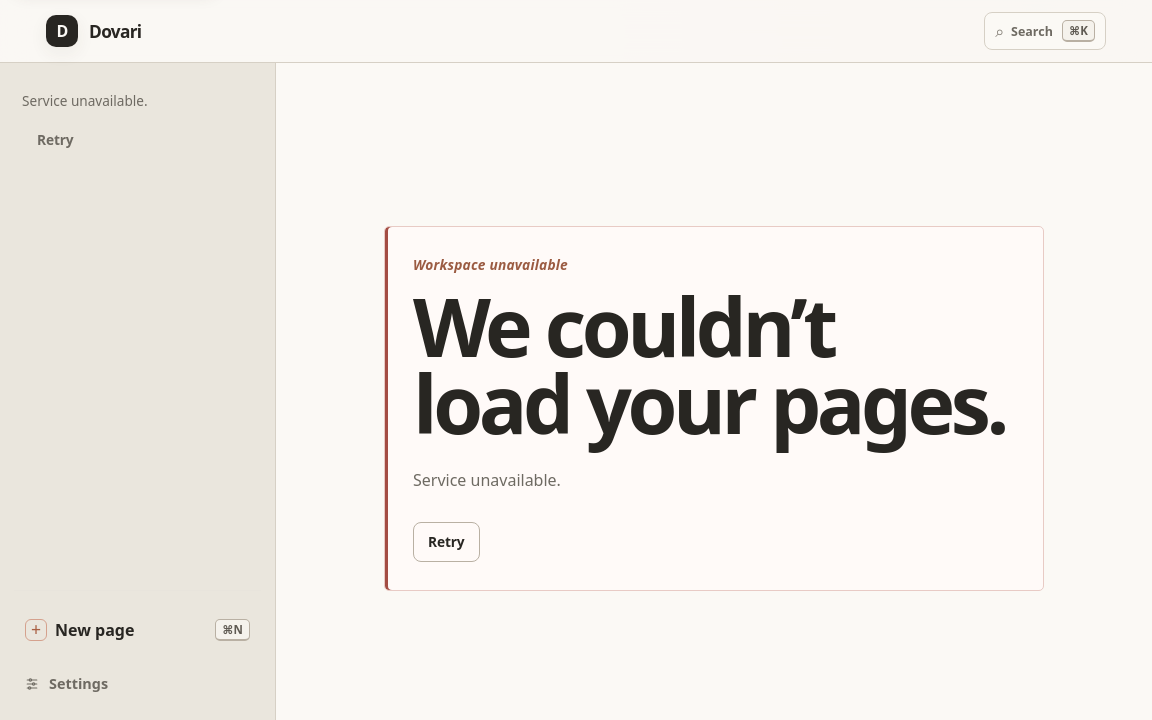
Test: Dovari app shell › shows a retryable error when the page list cannot be loaded
Expected: the heading "We couldn’t load your pages." is shown, x1=413 y1=288 x2=1015 y2=442
Click the 1st button "Retry": (55, 139) x1=22 y1=119 x2=89 y2=159
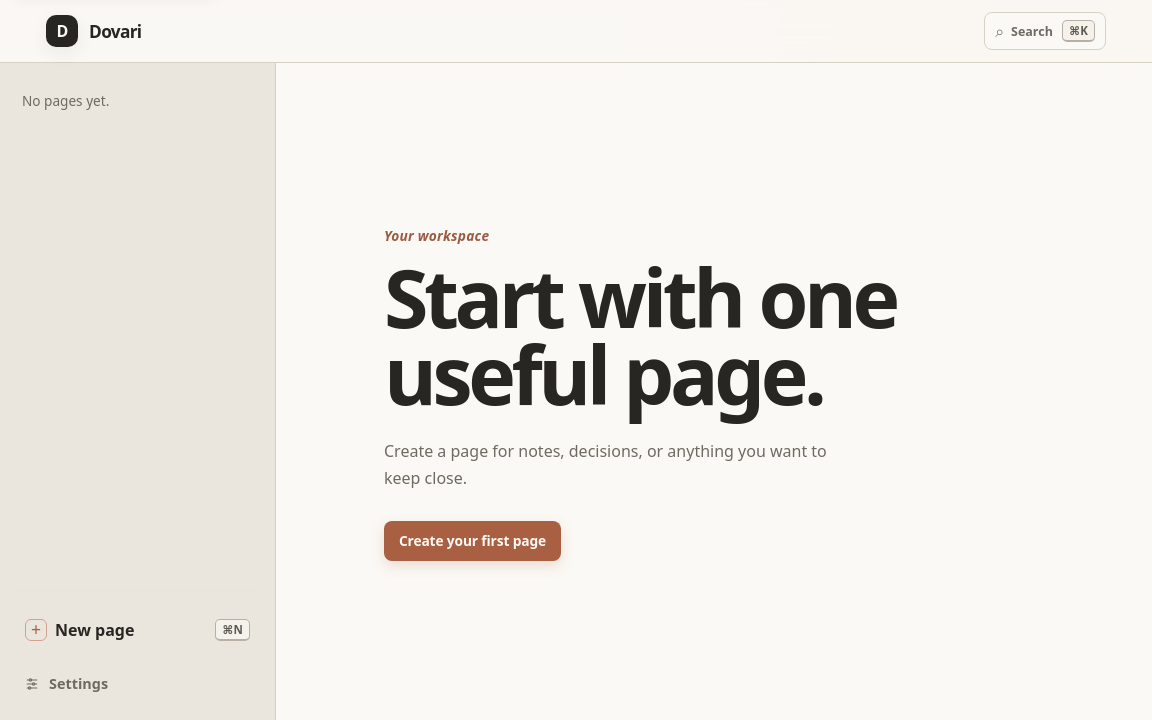
Result: the heading "Start with one useful page." is shown at x1=384 y1=242 x2=896 y2=429
